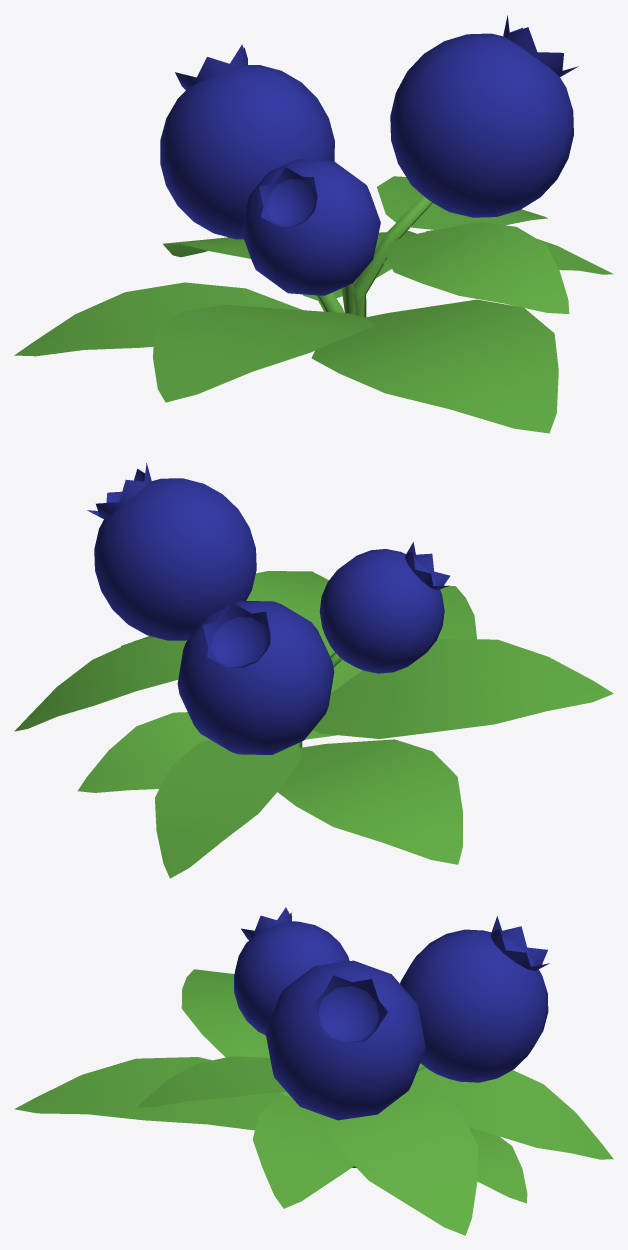
The model's file is blueberry3.fbx.
The picture shows the model from 3 angles, top to bottom: view 1: azimuth 30°, elevation 25°; view 2: azimuth 150°, elevation 25°; view 3: azimuth 270°, elevation 25°; orthographic projection. The views are drawn at different scales.
Visible parts, largest first — view 1: Blueberry3; view 2: Blueberry3; view 3: Blueberry3.
Part boxes in pixels (box(x1,y1,x2,y2)): Blueberry3: box(14, 15, 613, 433); Blueberry3: box(14, 463, 613, 878); Blueberry3: box(14, 907, 613, 1235).
Bounding box in the file's own units: 83.29 × 46.72 × 96.32.
